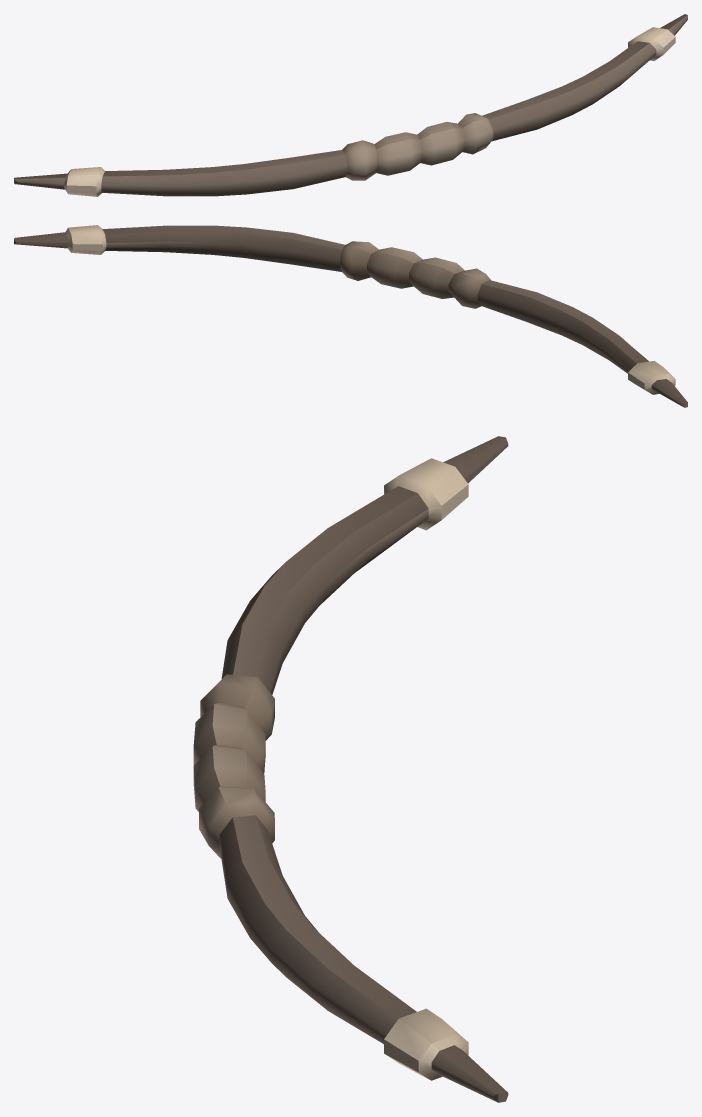
The model's file is bow_A.fbx.
The picture shows the model from 3 angles, top to bottom: view 1: azimuth 30°, elevation 25°; view 2: azimuth 150°, elevation 25°; view 3: azimuth 270°, elevation 25°; orthographic projection. The views are drawn at different scales.
Visible parts, largest first — view 1: bow_A; view 2: bow_A; view 3: bow_A.
Boxes of the visible parts, bbox=[...] form: bow_A: bbox=[14, 14, 687, 196]; bow_A: bbox=[14, 225, 687, 407]; bow_A: bbox=[193, 436, 508, 1102].
Bounding box in the file's own units: 1.96 × 0.0916 × 0.3958.
